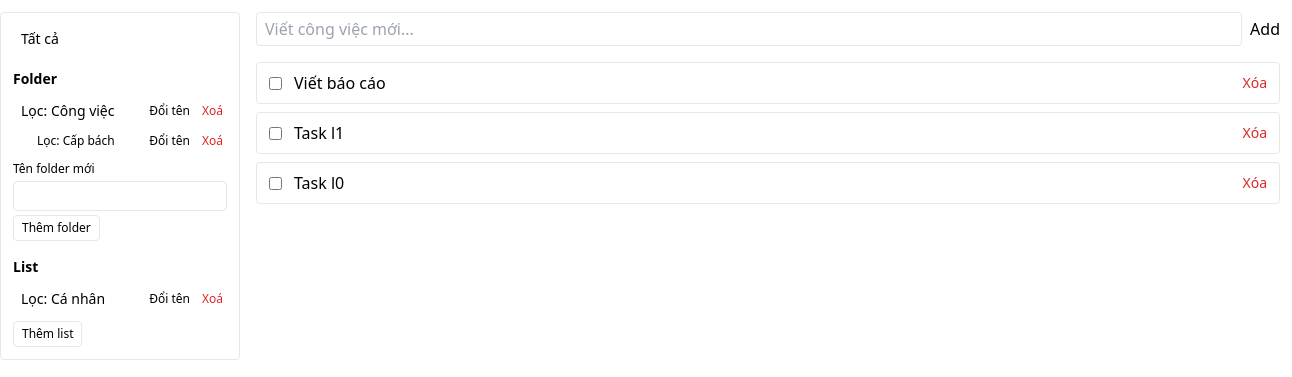
Test: TasksWorkspace filter › lọc theo folder lấy cả các list bên trong
Click the button "Lọc: Công việc" at (77, 111), box top-left (13, 97), bottom-right (141, 125)
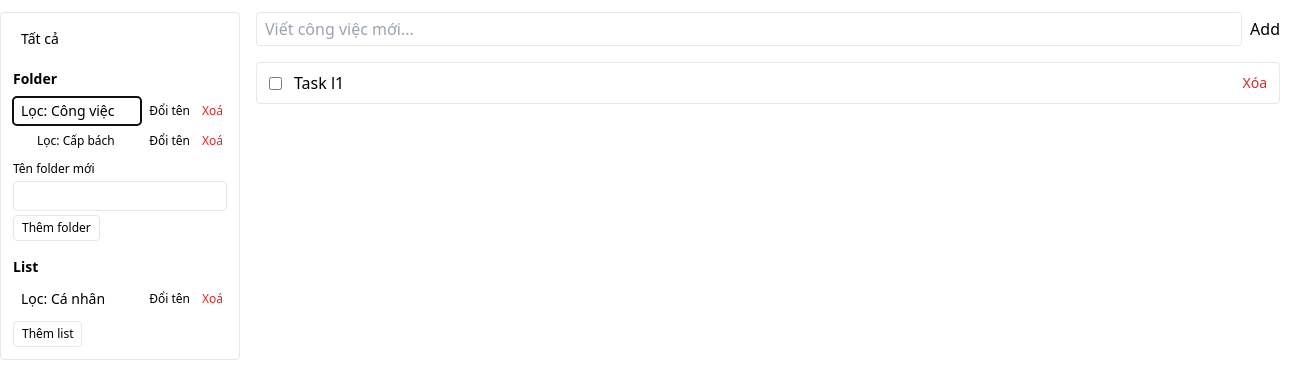
Expected: the text "Task l1" is shown, top-left (294, 72), bottom-right (344, 94)
Expected: the button "Task l0" is gone
